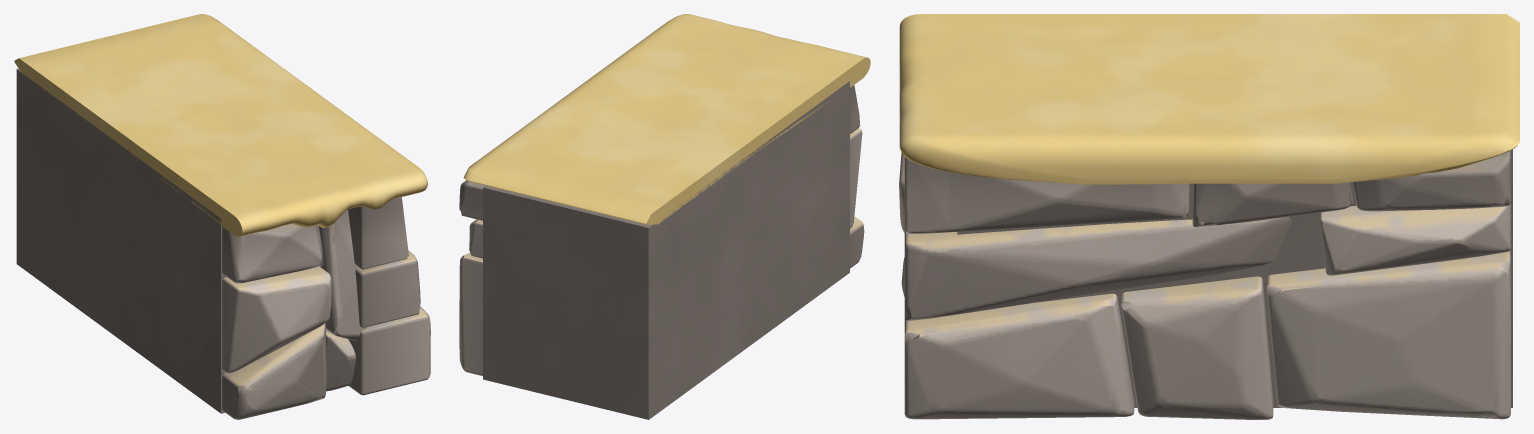
File: CC_T03_SandCliffEnd_R.fbx
The picture shows the model from 3 angles, left to right: view 1: azimuth 30°, elevation 25°; view 2: azimuth 150°, elevation 25°; view 3: azimuth 270°, elevation 25°; orthographic projection. The views are drawn at different scales.
Visible parts, largest first — view 1: Rock, SandCap; view 2: Rock, SandCap; view 3: Rock, SandCap.
Part boxes in pixels (box(x1,y1,x2,y2)): Rock: box(16, 68, 430, 419); SandCap: box(14, 14, 427, 236); Rock: box(459, 81, 864, 419); SandCap: box(463, 14, 870, 224); Rock: box(899, 149, 1512, 419); SandCap: box(899, 14, 1519, 184).
Bounding box in the file's own units: 2 × 2.01 × 3.99.
